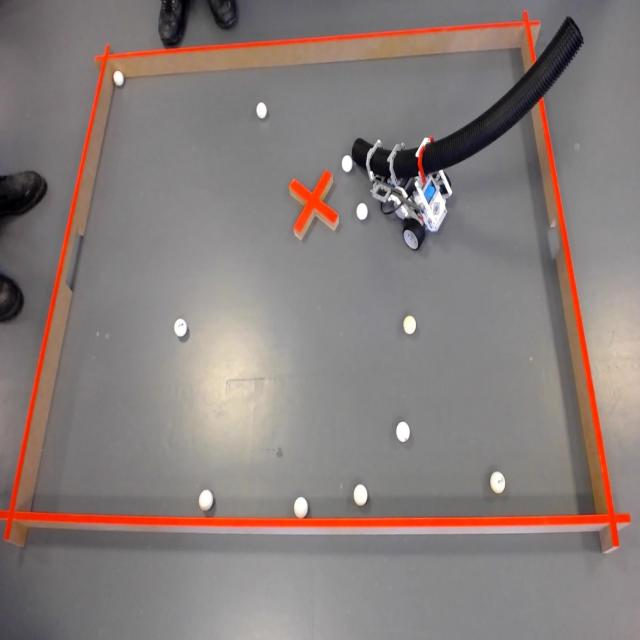big-goal: (62, 225, 87, 292)
obstacle: (7, 58, 111, 515), (521, 29, 616, 519), (102, 20, 529, 77), (14, 510, 606, 536), (287, 172, 342, 244)
robot: (352, 17, 586, 251)
small-goal: (550, 218, 562, 259)
white-golf-balls: (292, 494, 310, 522), (488, 469, 507, 495), (396, 419, 412, 446), (352, 482, 370, 506), (173, 316, 189, 340), (198, 488, 214, 512), (402, 314, 418, 337), (356, 197, 369, 224), (255, 100, 269, 120), (340, 155, 354, 174), (114, 68, 125, 86)
